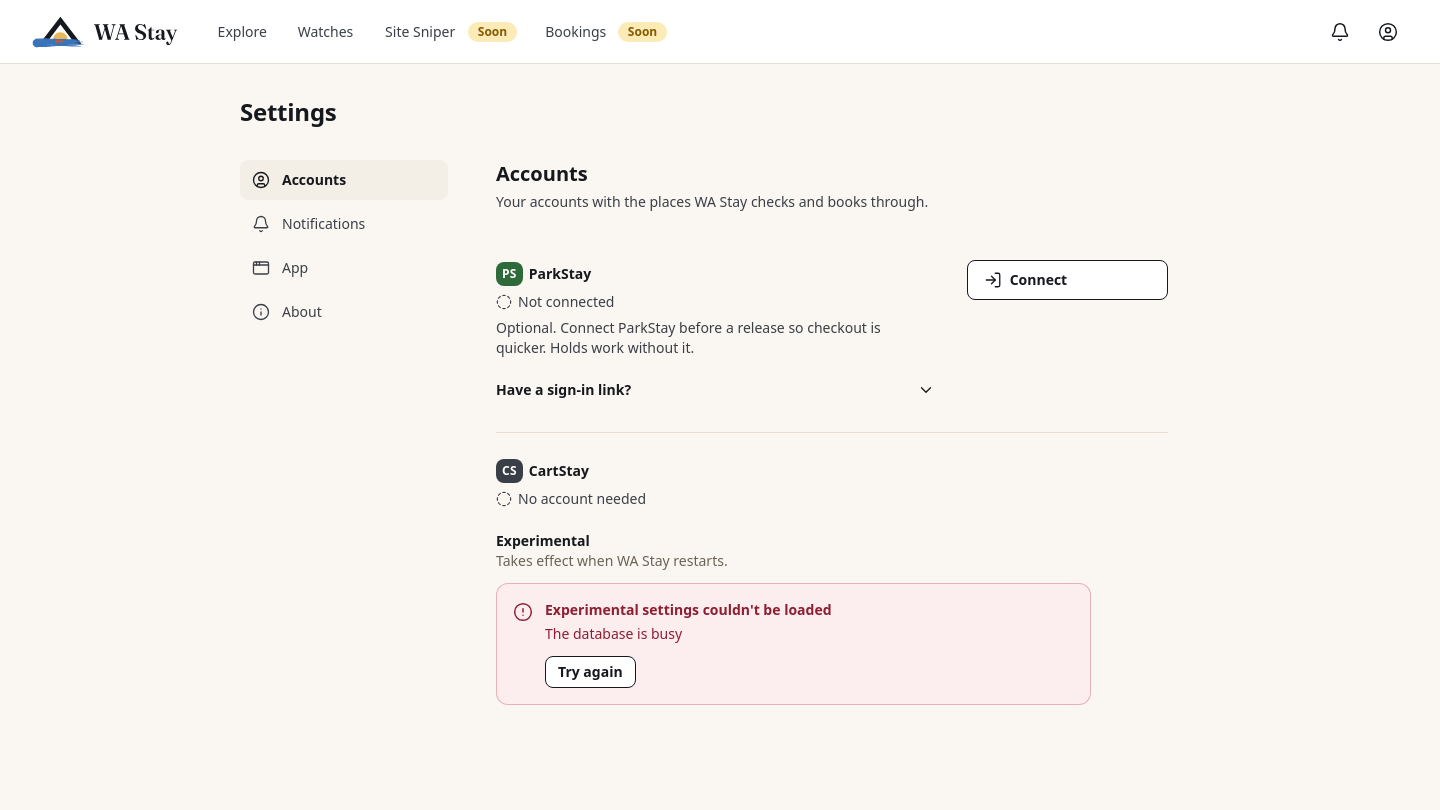
Test case: Settings → Accounts: Experimental switches, pending and failing states (R17) › the experiments couldn't be loaded: says so, with Try again
Expected: the message shows "Experimental settings couldn't be loaded", [545, 600, 832, 619]
Click the button "Try again". click: (590, 672)
box: [545, 656, 636, 688]
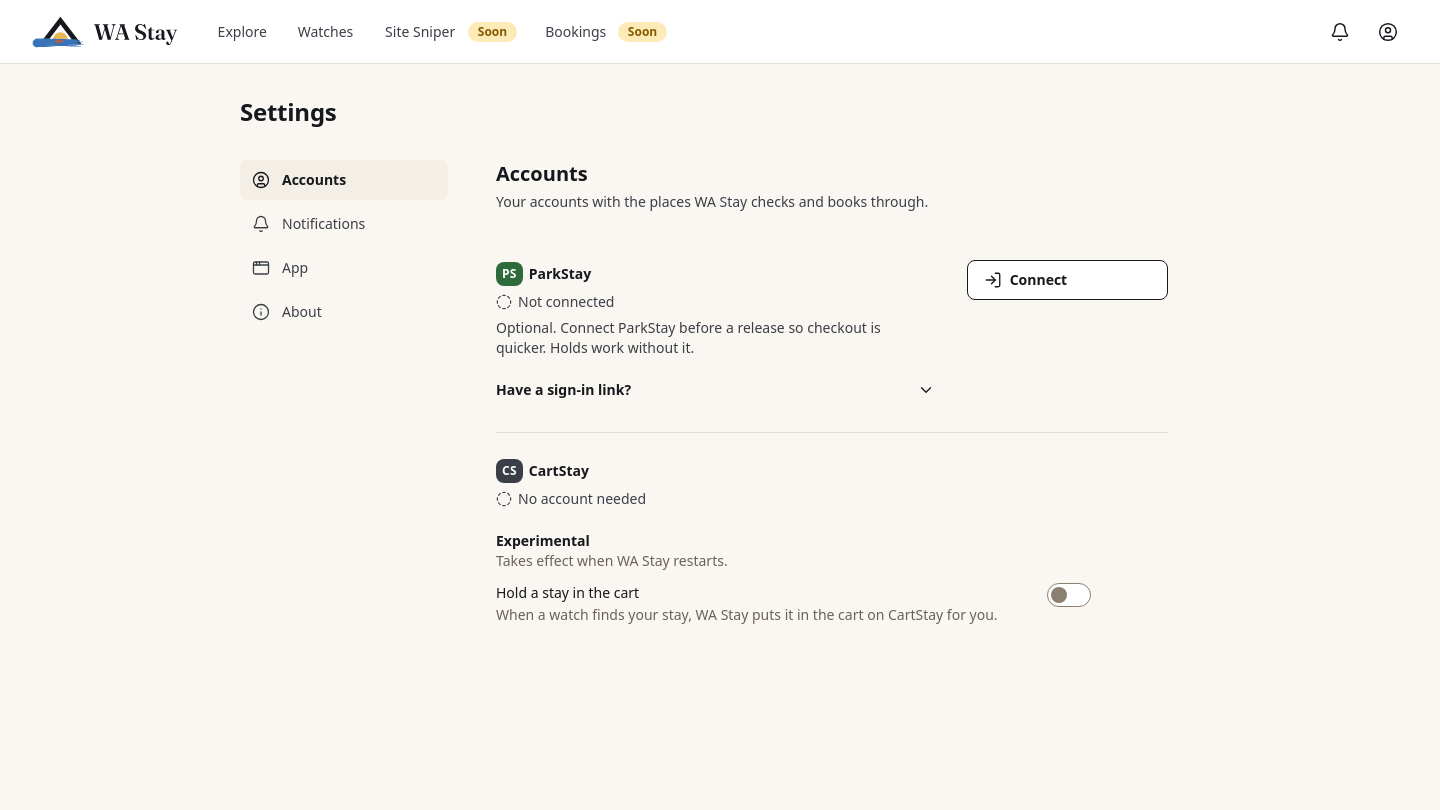
Expected: the switch labelled "Hold a stay in the cart" is not checked, [1047, 583, 1091, 607]
